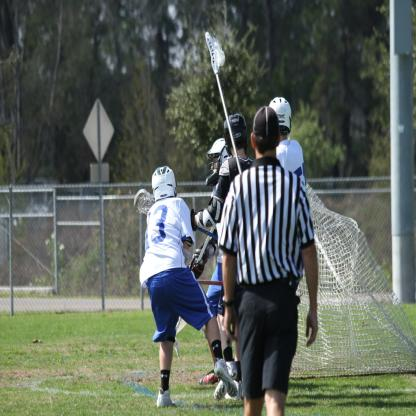Helmet: (205, 136, 230, 187), (222, 115, 249, 157), (150, 167, 178, 205), (268, 98, 293, 136)
